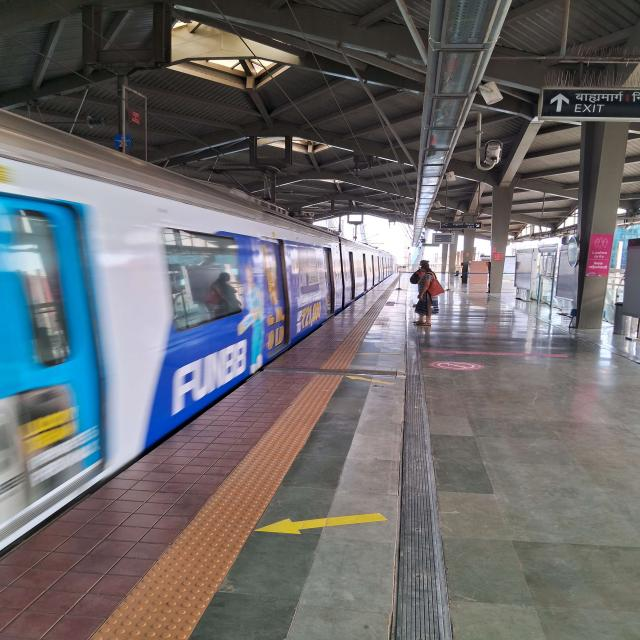train: (1, 102, 370, 546)
